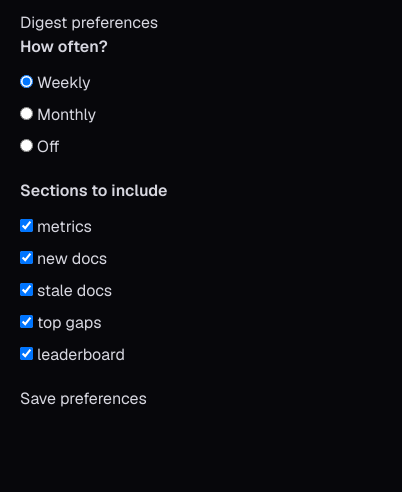
Test case: DigestPreferences › surfaces a save error when PUT fails (R14)
What coordinates should you click on to do the following:
click the radio button with test id "digest-pref-frequency-monthly"
I would click on:
 (26, 114)
Its box is left=20, top=107, right=33, bottom=120.
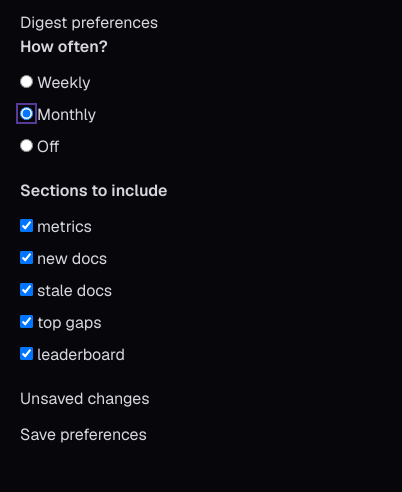
What coordinates should you click on to do the following:
click the button with test id "digest-pref-save"
I would click on:
 (83, 435)
Its box is left=20, top=423, right=147, bottom=447.
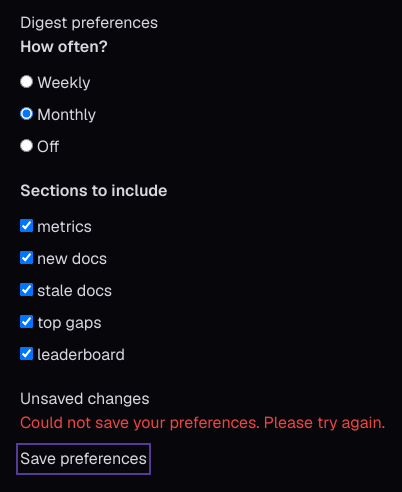
Expected: the message "Could not save your preferences. Please try again." is shown, left=20, top=412, right=385, bottom=433
